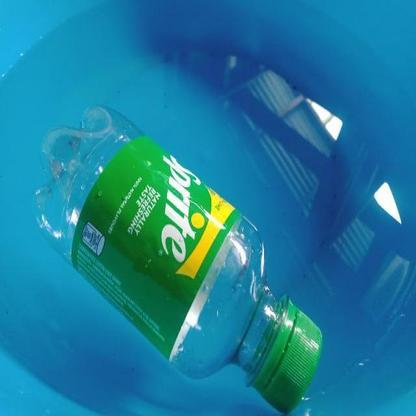plastic bottle: (32, 105, 322, 415)
